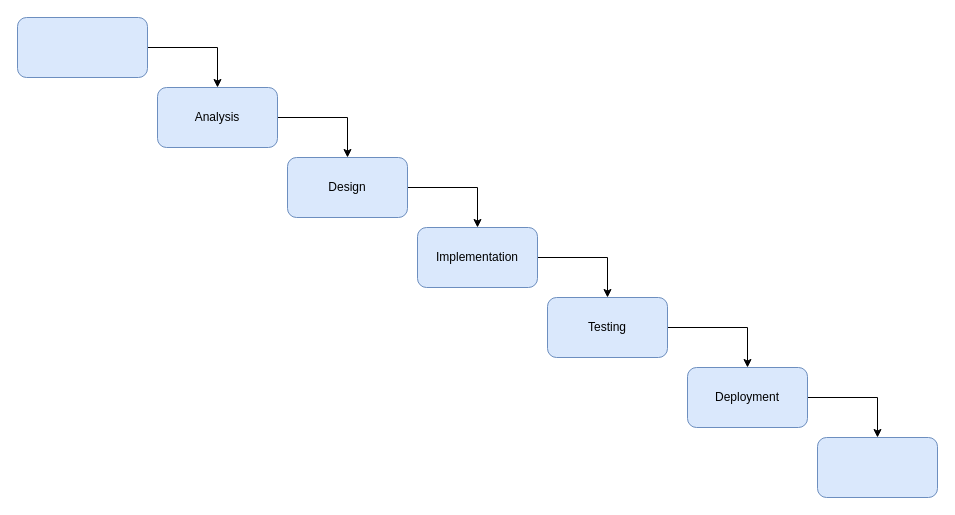
The diagram is 955 pixels wide and 515 high, and some of its shapes have lost their labels. The shapes that lost their labels are listed below. From the top down, each one's centre as x and y in pixels, then its label:
At pixel 82 47: "Planning".
At pixel 877 467: "Maintenance".
